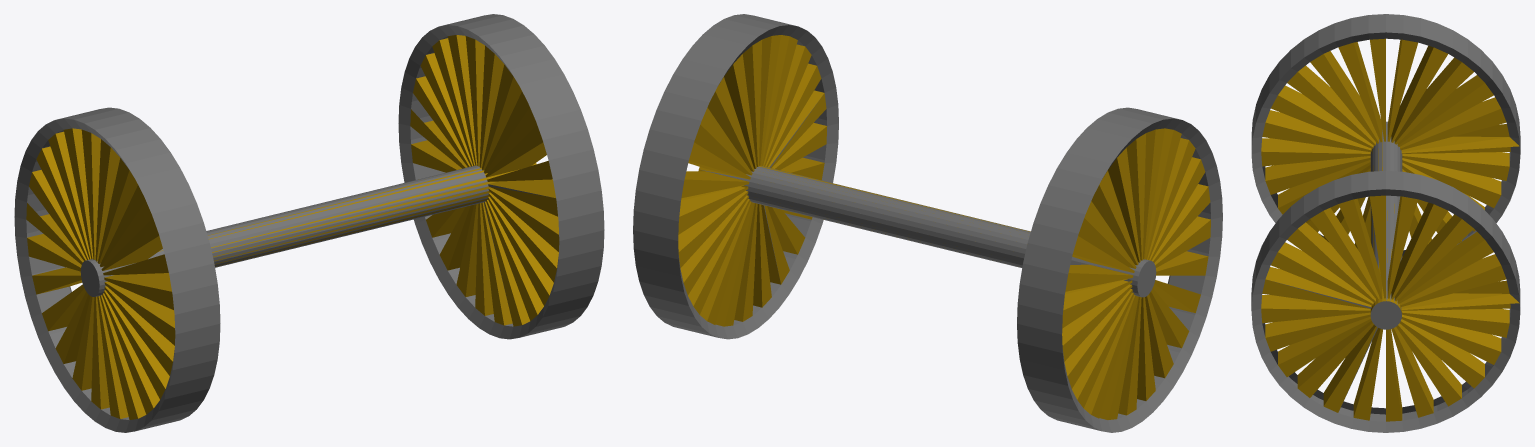
Rendered from wheelset-steam.dae.
The picture shows the model from 3 angles, left to right: view 1: azimuth 30°, elevation 25°; view 2: azimuth 150°, elevation 25°; view 3: azimuth 270°, elevation 25°; orthographic projection. The views are drawn at different scales.
Visible parts, largest first — view 1: Loco-Wheels-5Ft_000; view 2: Loco-Wheels-5Ft_000; view 3: Loco-Wheels-5Ft_000.
Boxes of the visible parts, <box> form: Loco-Wheels-5Ft_000: <box>14,14,604,432</box>; Loco-Wheels-5Ft_000: <box>633,14,1222,432</box>; Loco-Wheels-5Ft_000: <box>1251,14,1520,432</box>.
Size of the model in its own units: 1.56 by 0.9886 by 0.989.
